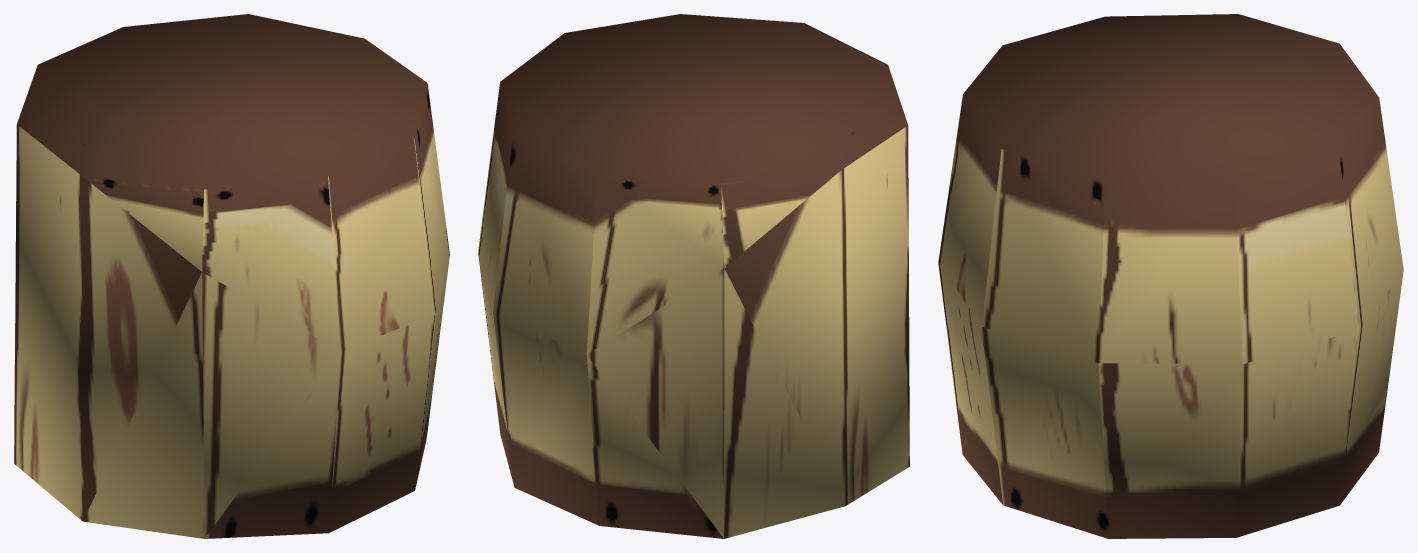
Rendered from Bocka_1_lod2.fbx.
3 views of the same model, side by side, from view 1: azimuth 30°, elevation 25°; view 2: azimuth 150°, elevation 25°; view 3: azimuth 270°, elevation 25° (orthographic).
Parts seen in each view (by area): view 1: лодд2; view 2: лодд2; view 3: лодд2.
Part boxes in pixels (box(x1,y1,x2,y2)): лодд2: box(14, 14, 449, 538); лодд2: box(478, 14, 909, 538); лодд2: box(938, 14, 1403, 538).
Size of the model in its own units: 209 by 228 by 195.
